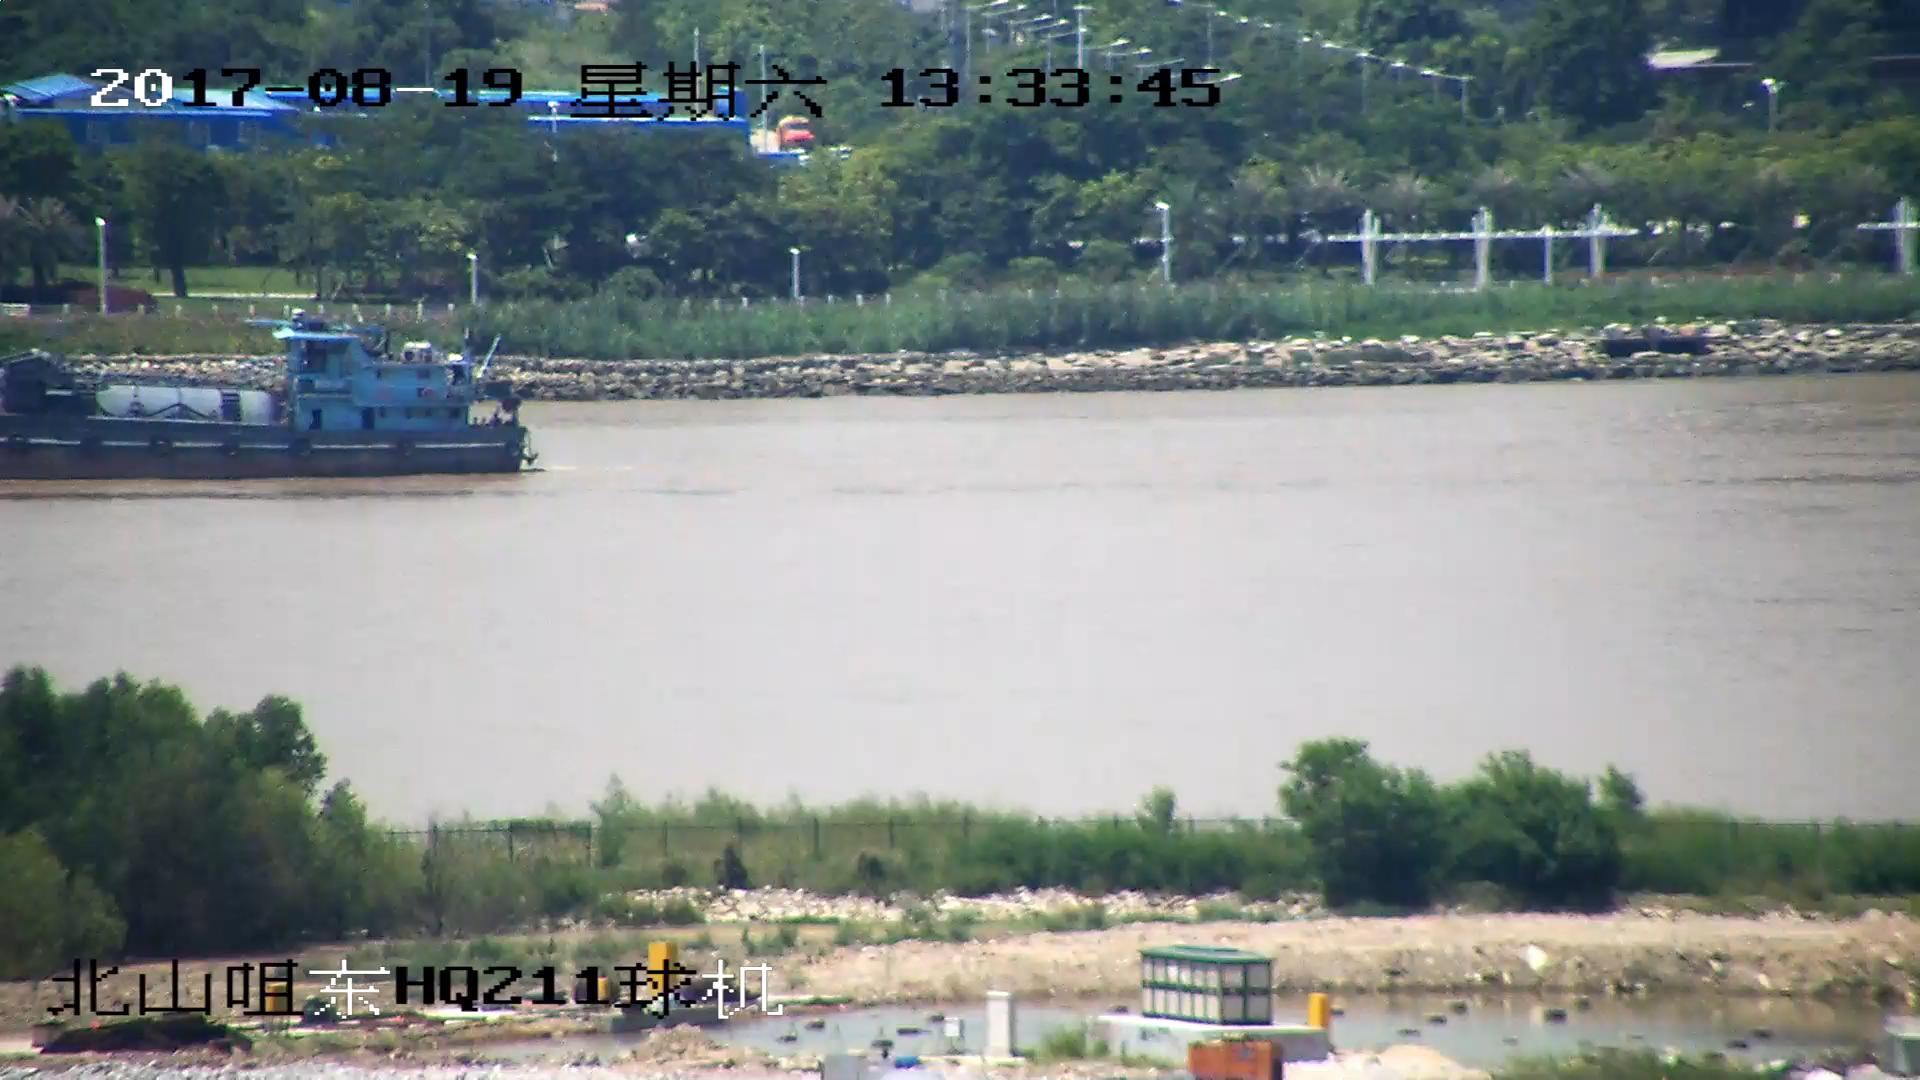bulk cargo carrier: (1, 312, 538, 477)
